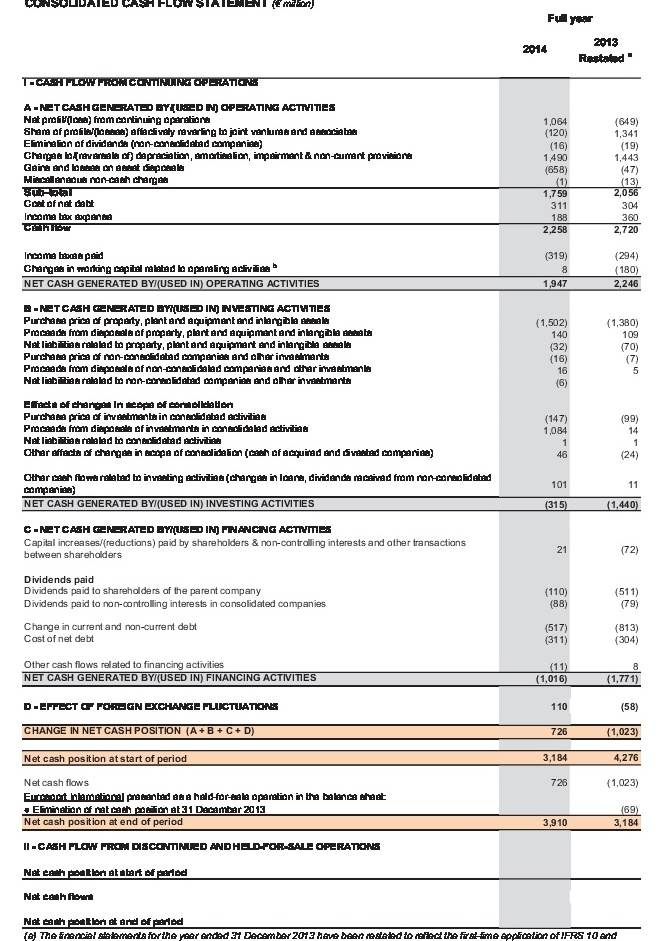table: (0, 0, 662, 941)
